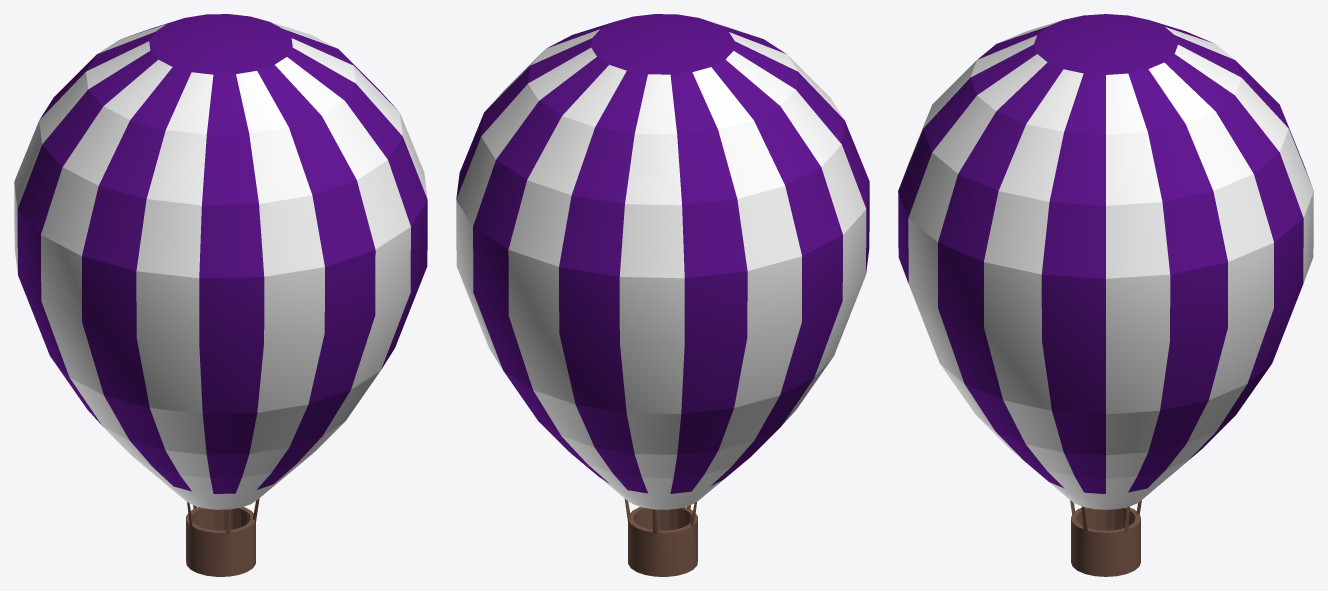
Rendered from balloon.glb.
The picture shows the model from 3 angles, left to right: view 1: azimuth 30°, elevation 25°; view 2: azimuth 150°, elevation 25°; view 3: azimuth 270°, elevation 25°; orthographic projection.
Parts seen in each view (by area): view 1: pSphere16; view 2: pSphere16; view 3: pSphere16.
Part boxes in pixels (box(x1,y1,x2,y2)): pSphere16: box(14, 14, 427, 576); pSphere16: box(456, 14, 869, 576); pSphere16: box(898, 14, 1313, 576).
Size of the model in its own units: 6.96 by 9.77 by 6.96.
